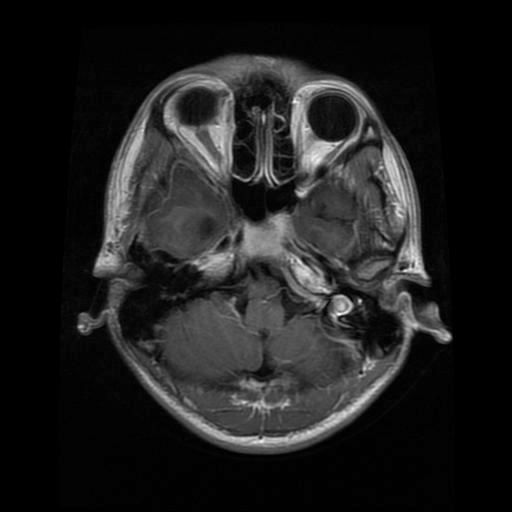Tumour-Glioma: (293, 188, 381, 252)
